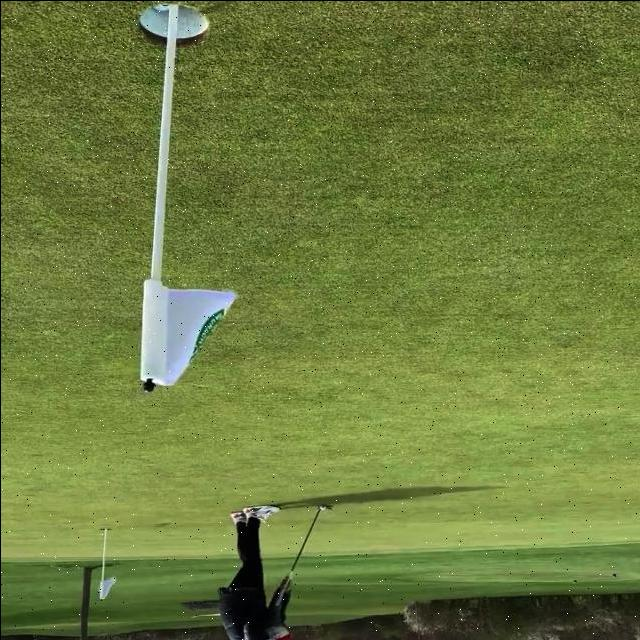ClubHandle: (273, 503, 334, 606)
ClubHead: (315, 505, 330, 509)
GolfBall: (318, 504, 325, 508)
